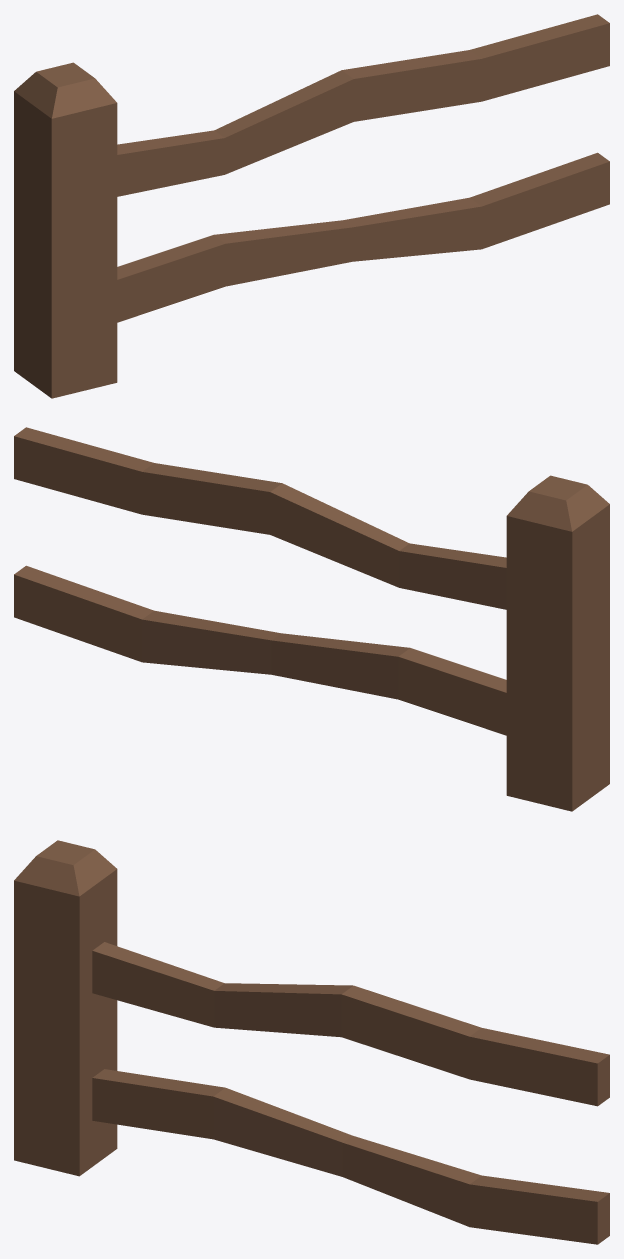
Rendered from WoodFence1.fbx.
3 views of the same model, one above another, from view 1: azimuth 30°, elevation 25°; view 2: azimuth 150°, elevation 25°; view 3: azimuth 330°, elevation 25° (orthographic).
Visible parts, largest first — view 1: Cube; view 2: Cube; view 3: Cube.
Part boxes in pixels (bbox=[...]): Cube: bbox=[14, 14, 609, 398]; Cube: bbox=[14, 427, 609, 811]; Cube: bbox=[14, 840, 609, 1244].
Bounding box in the file's own units: 155 × 78.15 × 17.75.
